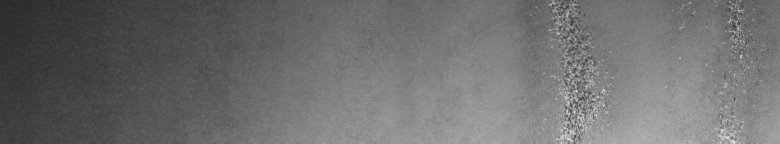hc: (540, 4, 611, 136)
